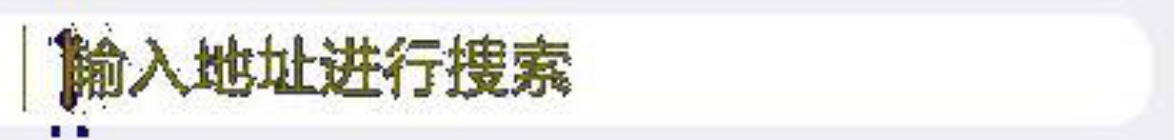EditText: (1, 1, 1173, 139)
